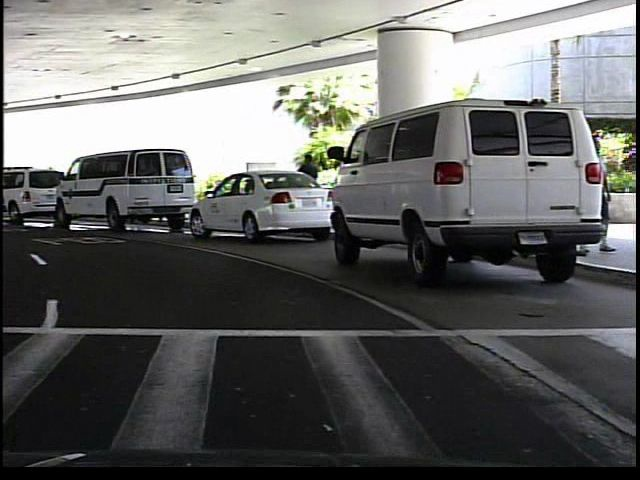person: (295, 149, 324, 223)
